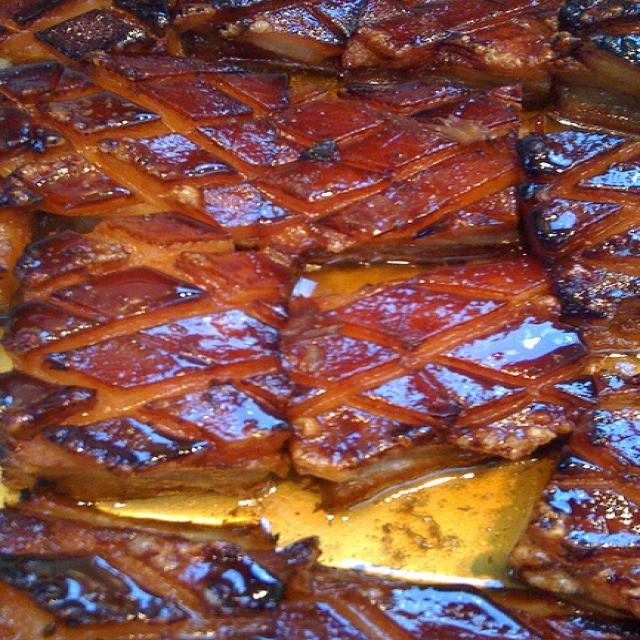牛肉菜式: (18, 10, 613, 610)
